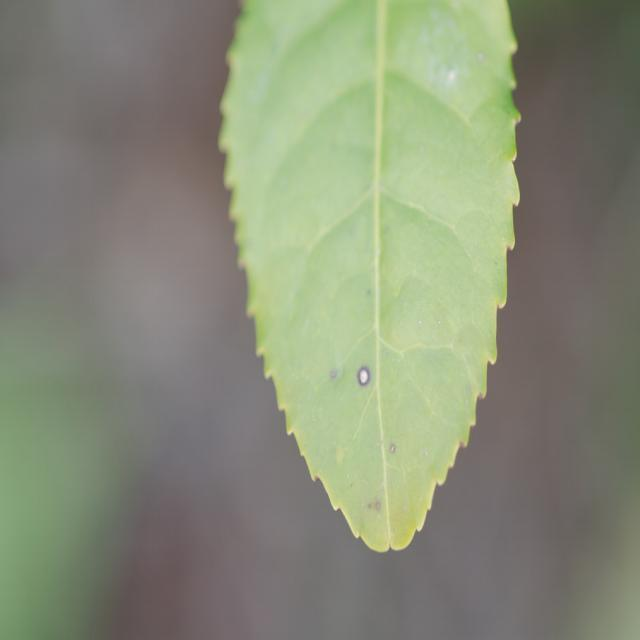Tea red scab: (353, 360, 374, 391)
